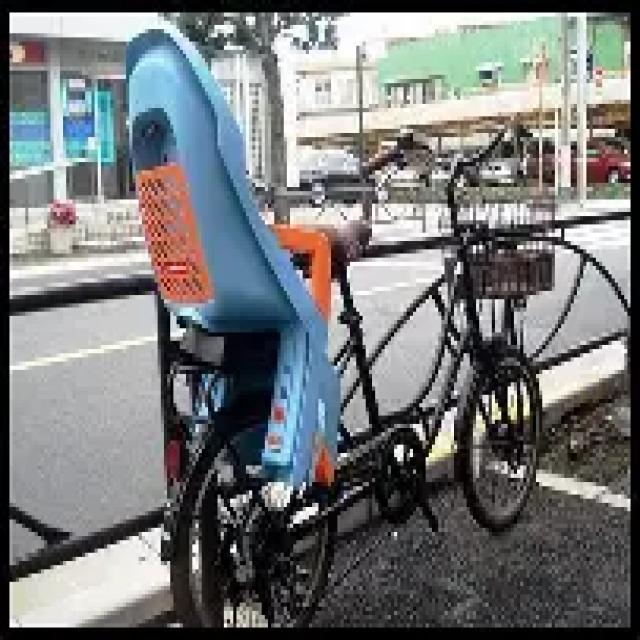basket: (436, 183, 554, 296)
childseat: (118, 31, 345, 496)
